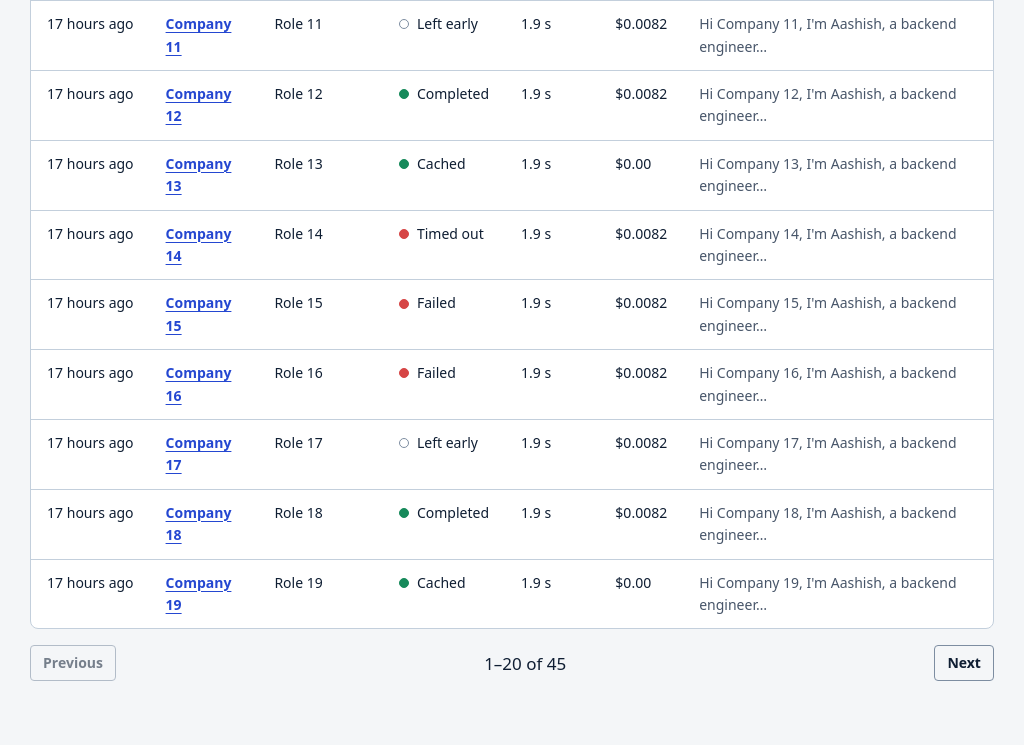
Test case: Pitch history: list › paginates with range labels and disables the ends
The width and height of the screenshot is (1024, 745).
(page scrolled)
expect the text "1–20 of 45" is shown: met, box [484,650,566,677]
expect the button "Previous" is disabled: met, box [30,645,116,681]
Click the button "Next" at (964, 663), box [934,645,994,681]
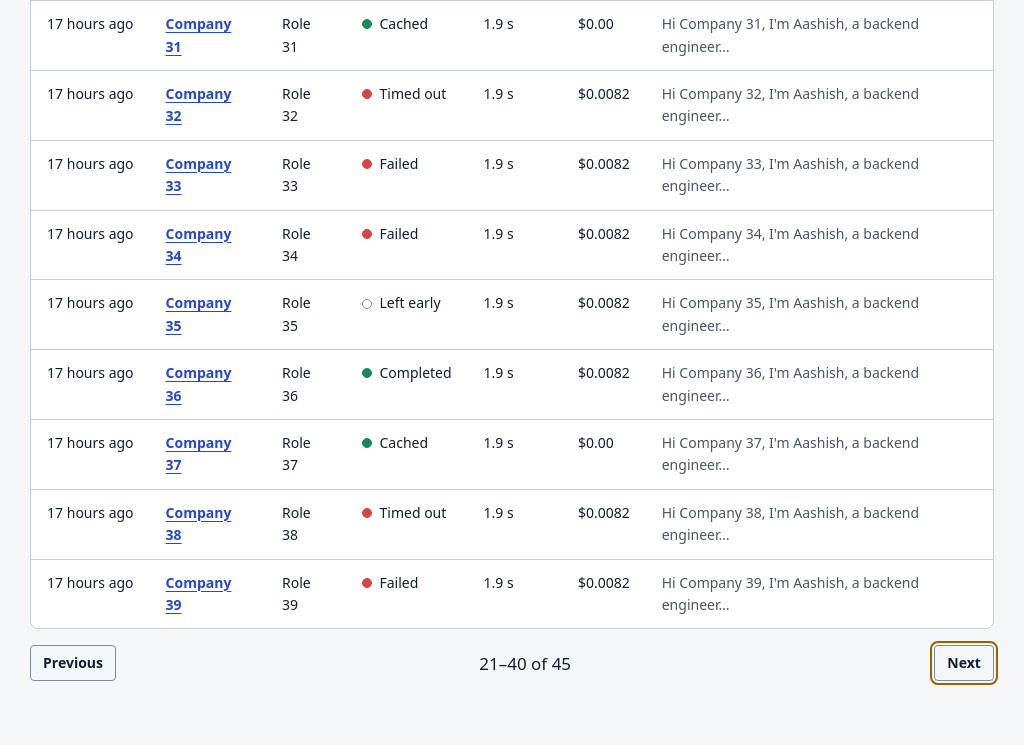
expect the text "21–40 of 45" is shown: met, box [479,650,571,677]
Click the button "Next" at (964, 663), box [934,645,994,681]
(page scrolled)
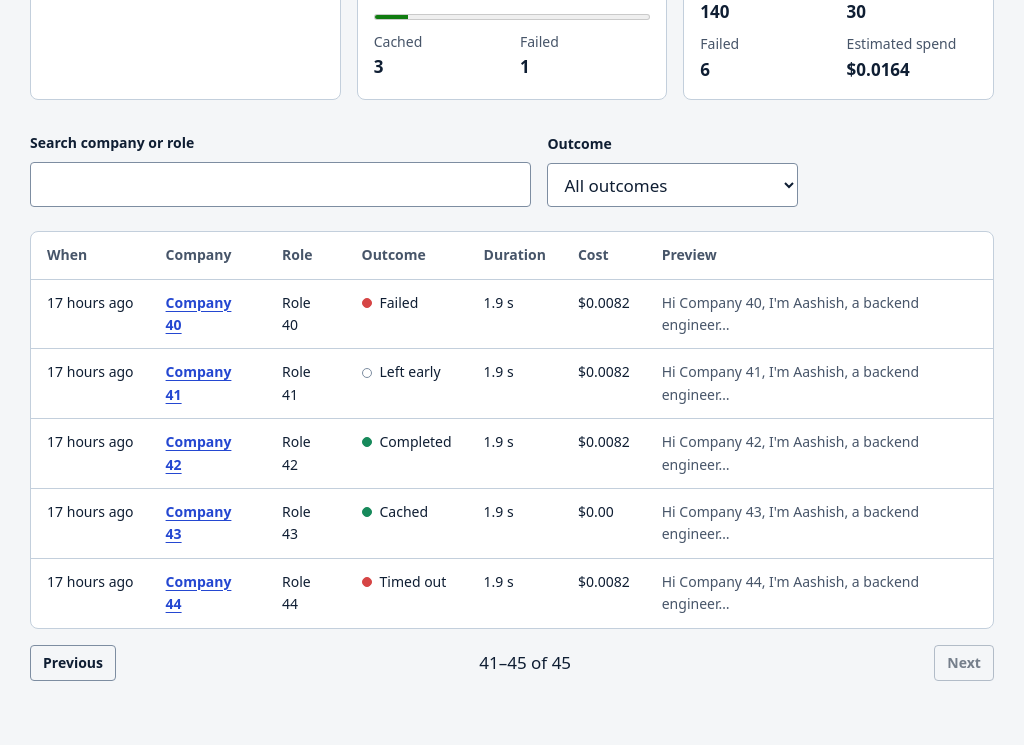
expect the button "Previous" is enabled: met, box [30,645,116,681]
expect the text "41–45 of 45" is shown: met, box [479,649,571,676]
expect the button "Next" is disabled: met, box [934,645,994,681]
